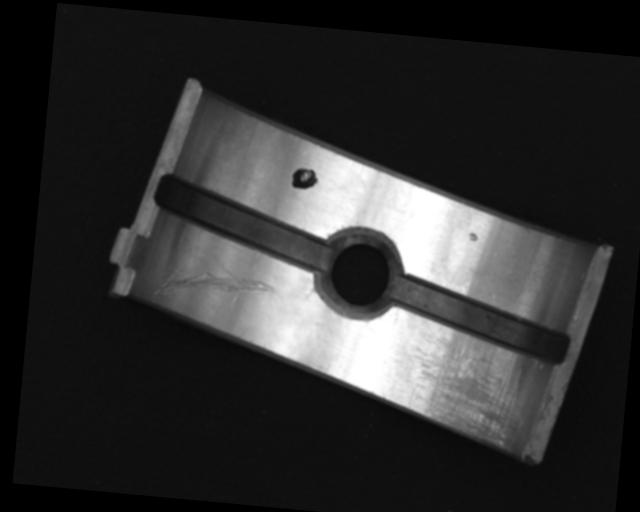blot: (289, 165, 319, 191)
bruise: (466, 232, 479, 241)
gap: (147, 170, 337, 274), (387, 274, 576, 365)
hole: (312, 229, 406, 322)
nick: (152, 246, 282, 306)
scratch: (404, 330, 529, 449)
